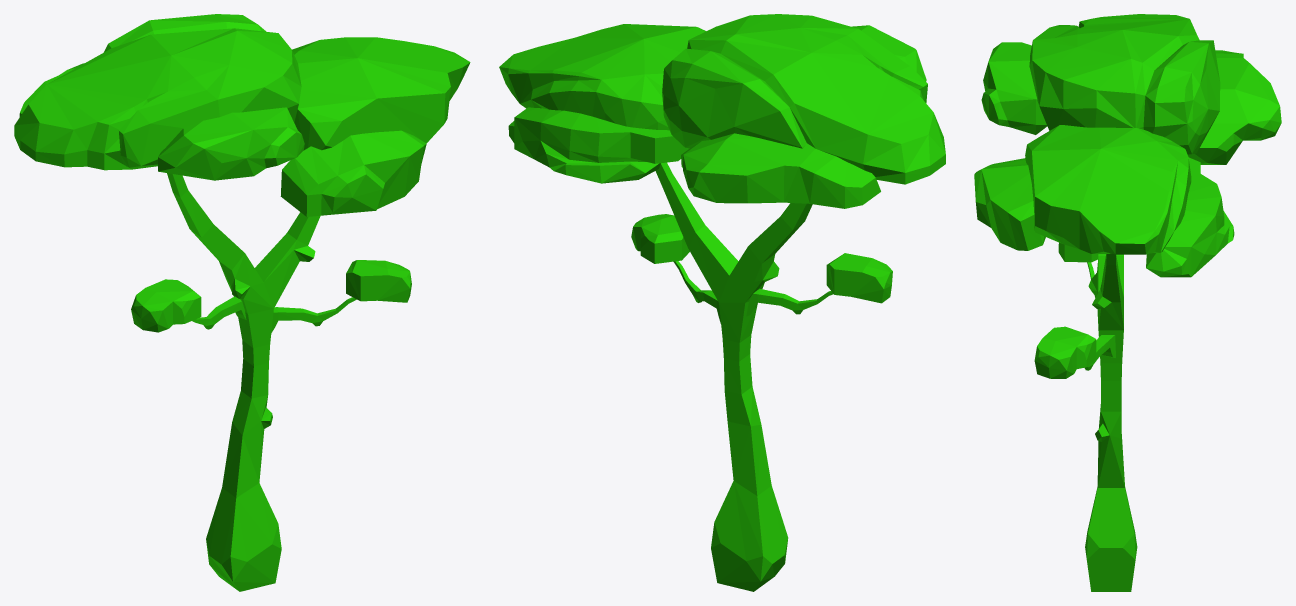
Rendered from M_tree2.FBX.
3 views of the same model, side by side, from view 1: azimuth 30°, elevation 25°; view 2: azimuth 150°, elevation 25°; view 3: azimuth 270°, elevation 25° (orthographic). The views are drawn at different scales.
Visible parts, largest first — view 1: 对象1118, FOL_Foliage_05; view 2: 对象1118, FOL_Foliage_05; view 3: 对象1118, FOL_Foliage_05.
Boxes of the visible parts, <box> form: 对象1118: <box>14,14,470,332</box>; FOL_Foliage_05: <box>167,173,356,591</box>; 对象1118: <box>499,14,945,303</box>; FOL_Foliage_05: <box>655,162,833,591</box>; 对象1118: <box>974,14,1281,378</box>; FOL_Foliage_05: <box>1084,253,1137,591</box>.
Size of the model in its own units: 1246 by 1503 by 798.
